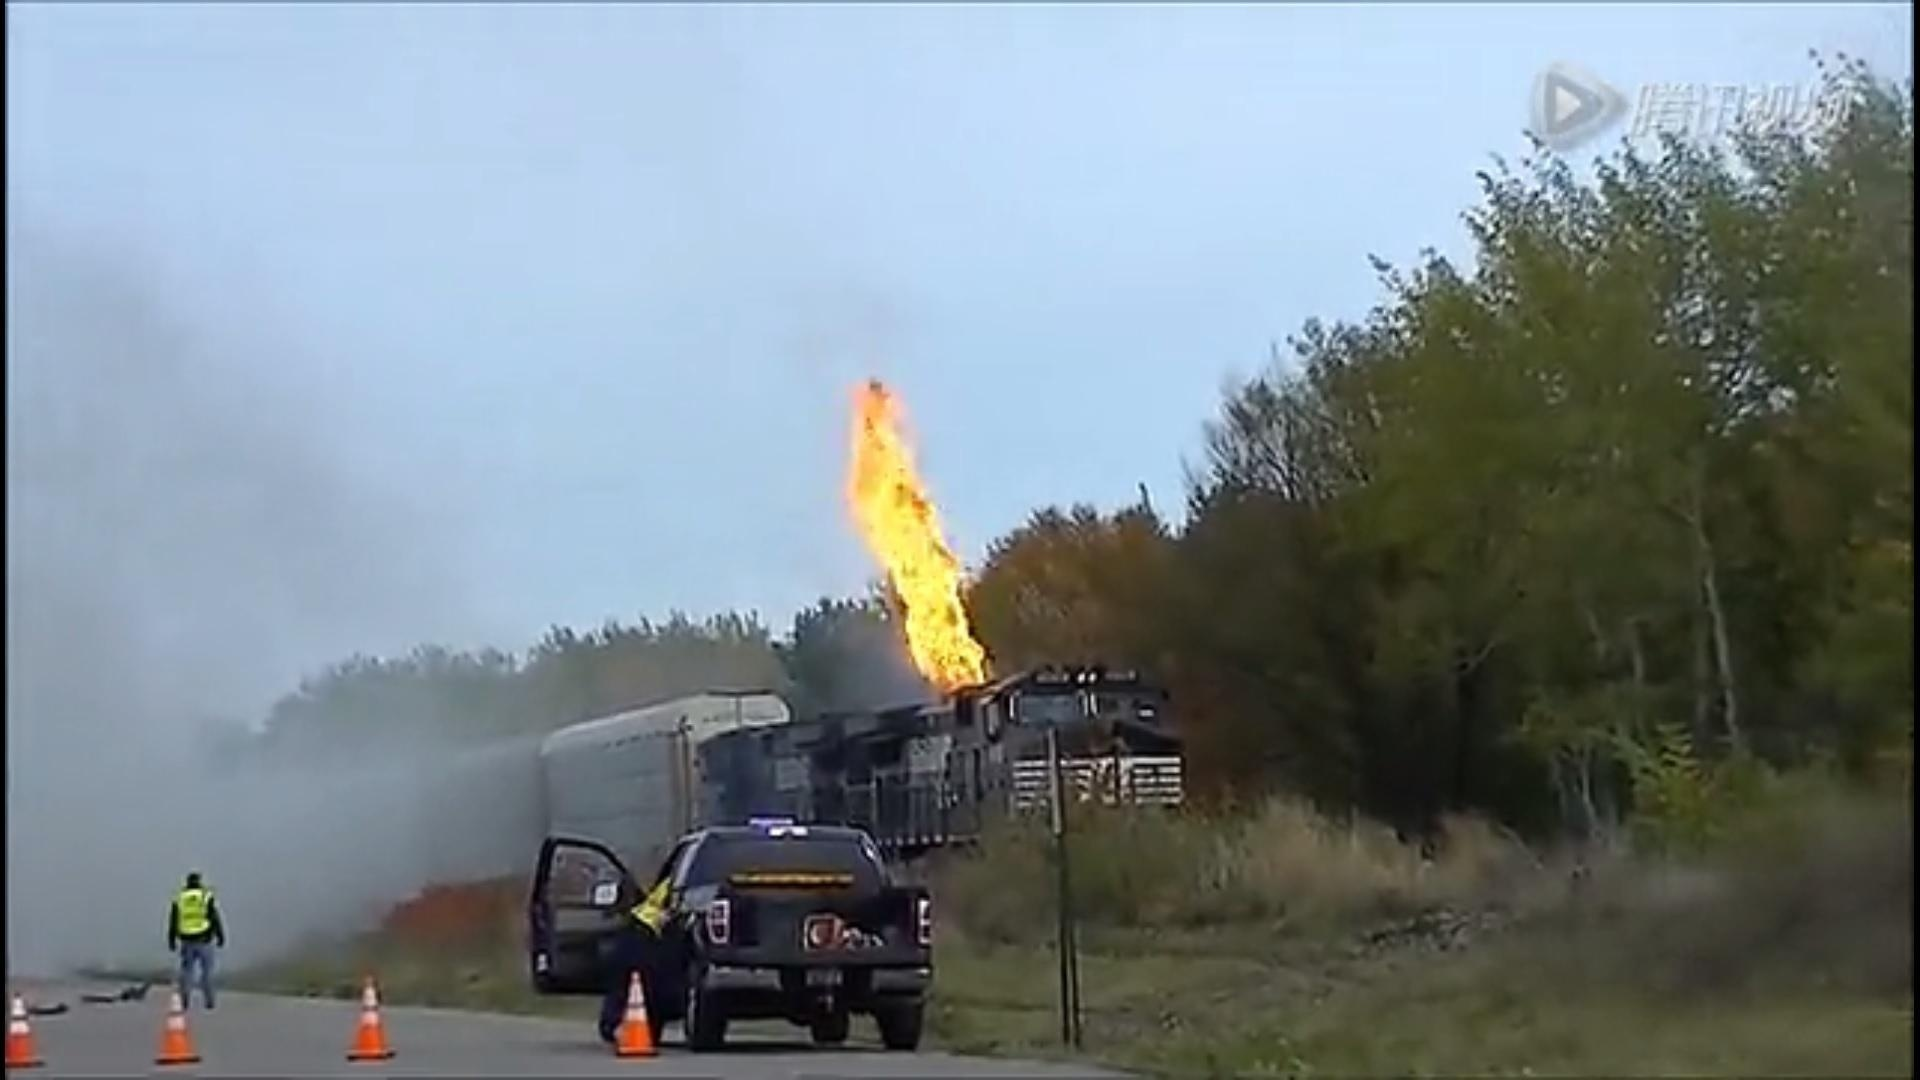fire: (843, 376, 978, 692)
